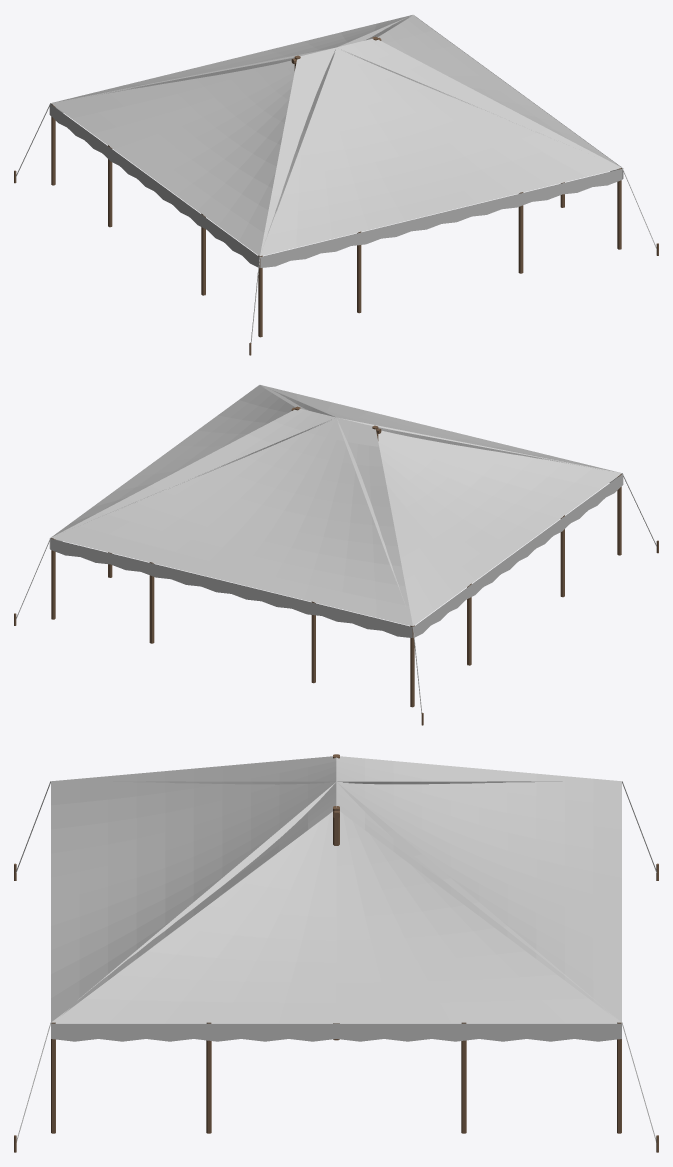
The model's file is tent_roof.glb.
3 views of the same model, one above another, from view 1: azimuth 30°, elevation 25°; view 2: azimuth 150°, elevation 25°; view 3: azimuth 270°, elevation 25° (orthographic). The views are drawn at different scales.
Parts seen in each view (by area): view 1: tent_roof; view 2: tent_roof; view 3: tent_roof.
Boxes of the visible parts, x1,y1,x2,y2 form: tent_roof: (14,14,658,355); tent_roof: (14,384,658,725); tent_roof: (14,754,658,1152).
Size of the model in its own units: 12.65 by 5.07 by 12.65.
